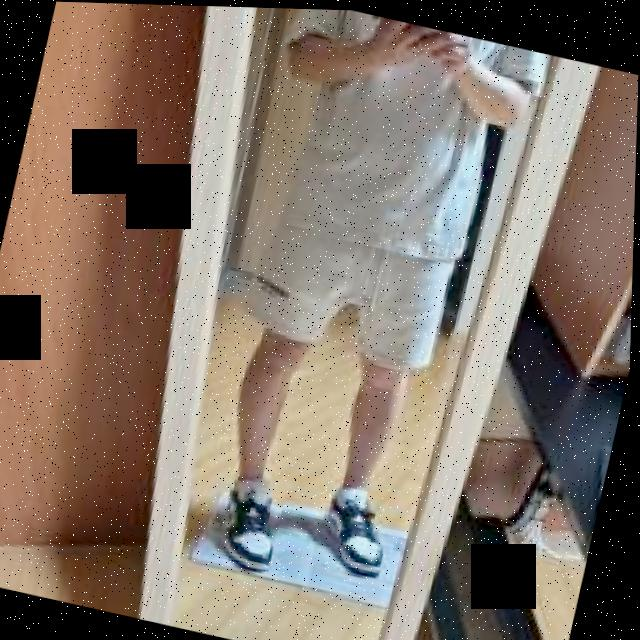shoe: (329, 487, 386, 576), (228, 480, 276, 570)
